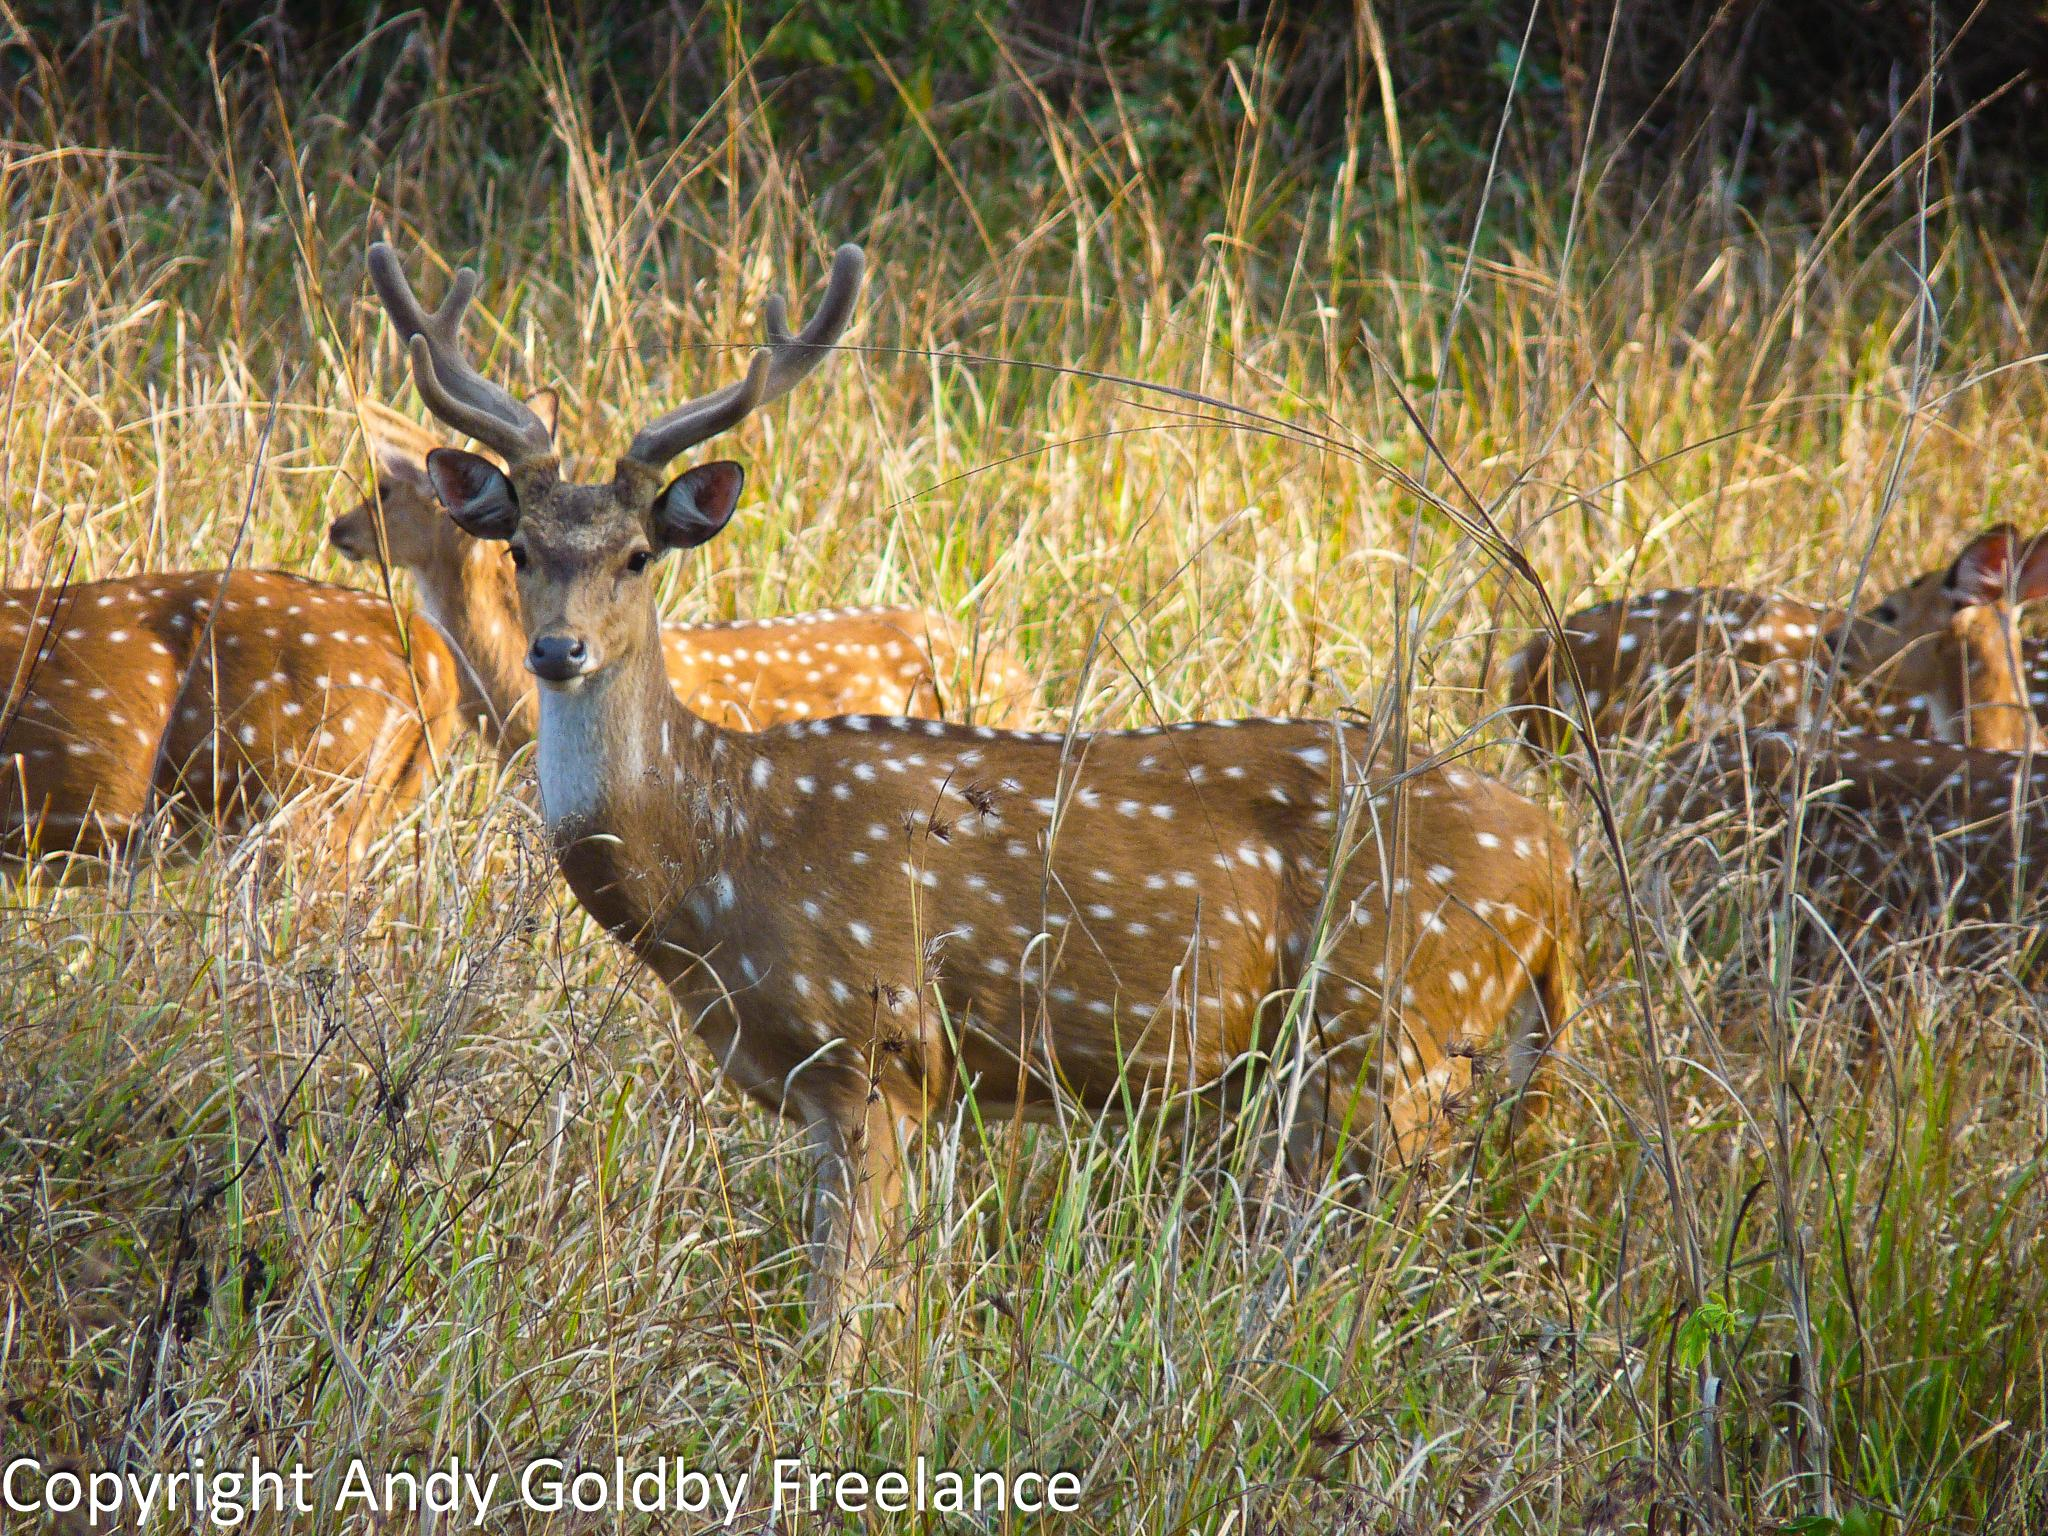Deer: (368, 242, 1580, 1313), (0, 570, 455, 860), (329, 399, 535, 757), (1846, 524, 2046, 749)
